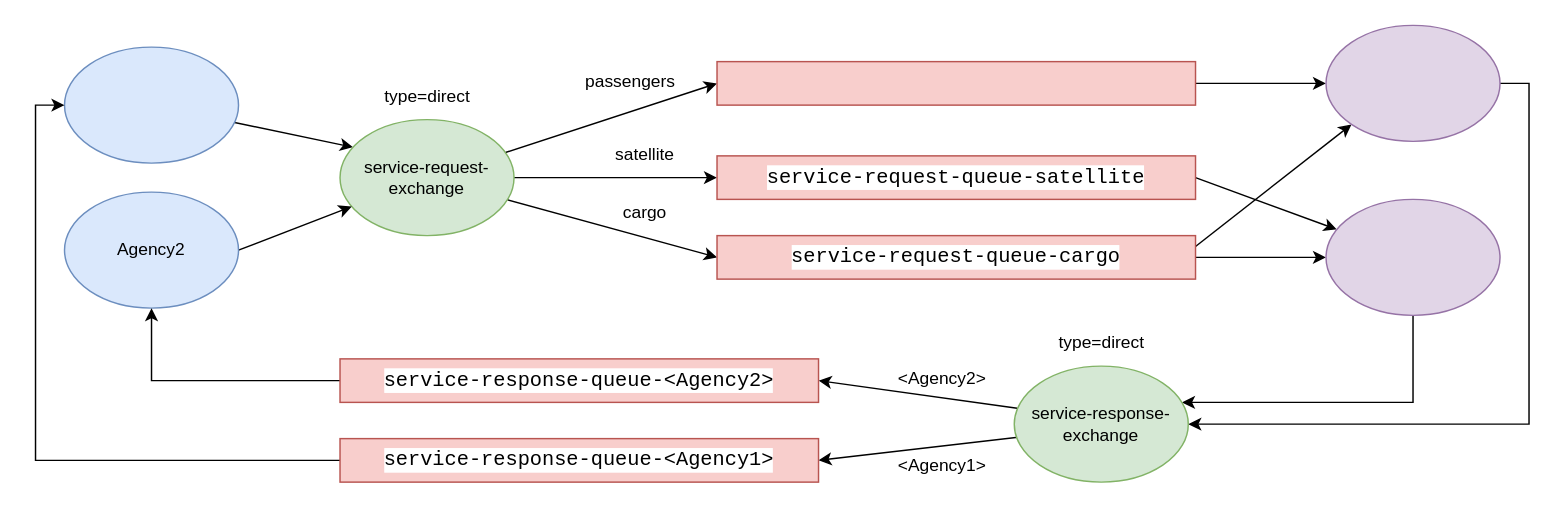
The diagram is 1566 pixels wide and 518 high, and some of its shapes have lost their labels. Here are the shapes that lost their labels. From the top down, the centre of each, then its label:
At point 956,82: "service-request-queue-passengers".
At point 1412,82: "Carrier1".
At point 151,104: "Agency1".
At point 1412,256: "Carrier2".
